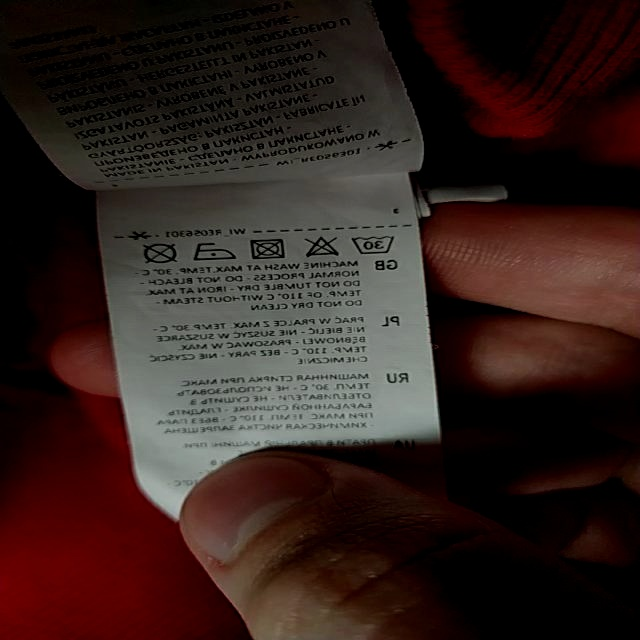30C: (345, 229, 397, 254)
DN_bleach: (302, 233, 339, 259)
DN_dry_clean: (139, 242, 179, 263)
DN_tumble_dry: (246, 235, 289, 260)
iron_low: (192, 240, 235, 263)
